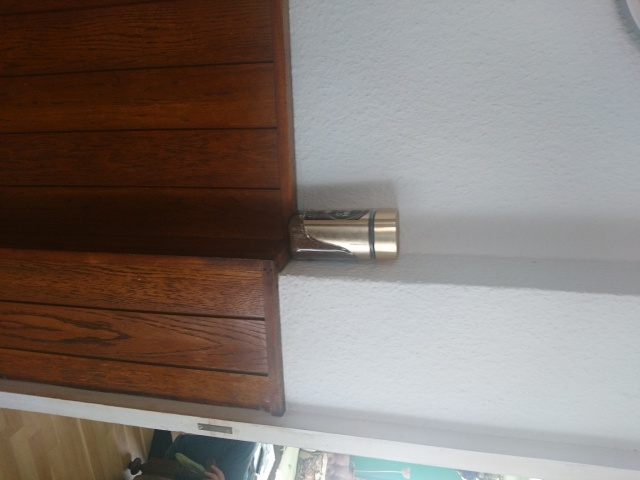Nescafe Gold 225g: (285, 205, 401, 264)
